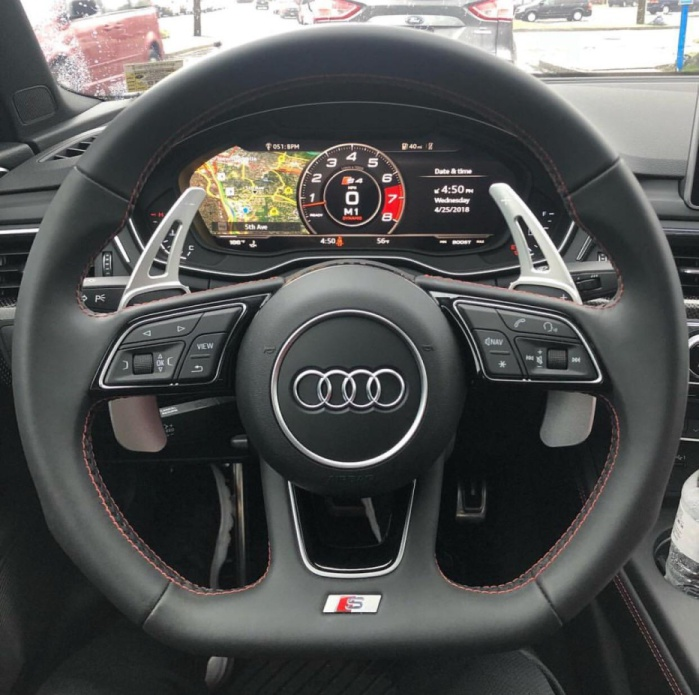audi: (286, 365, 411, 419)
